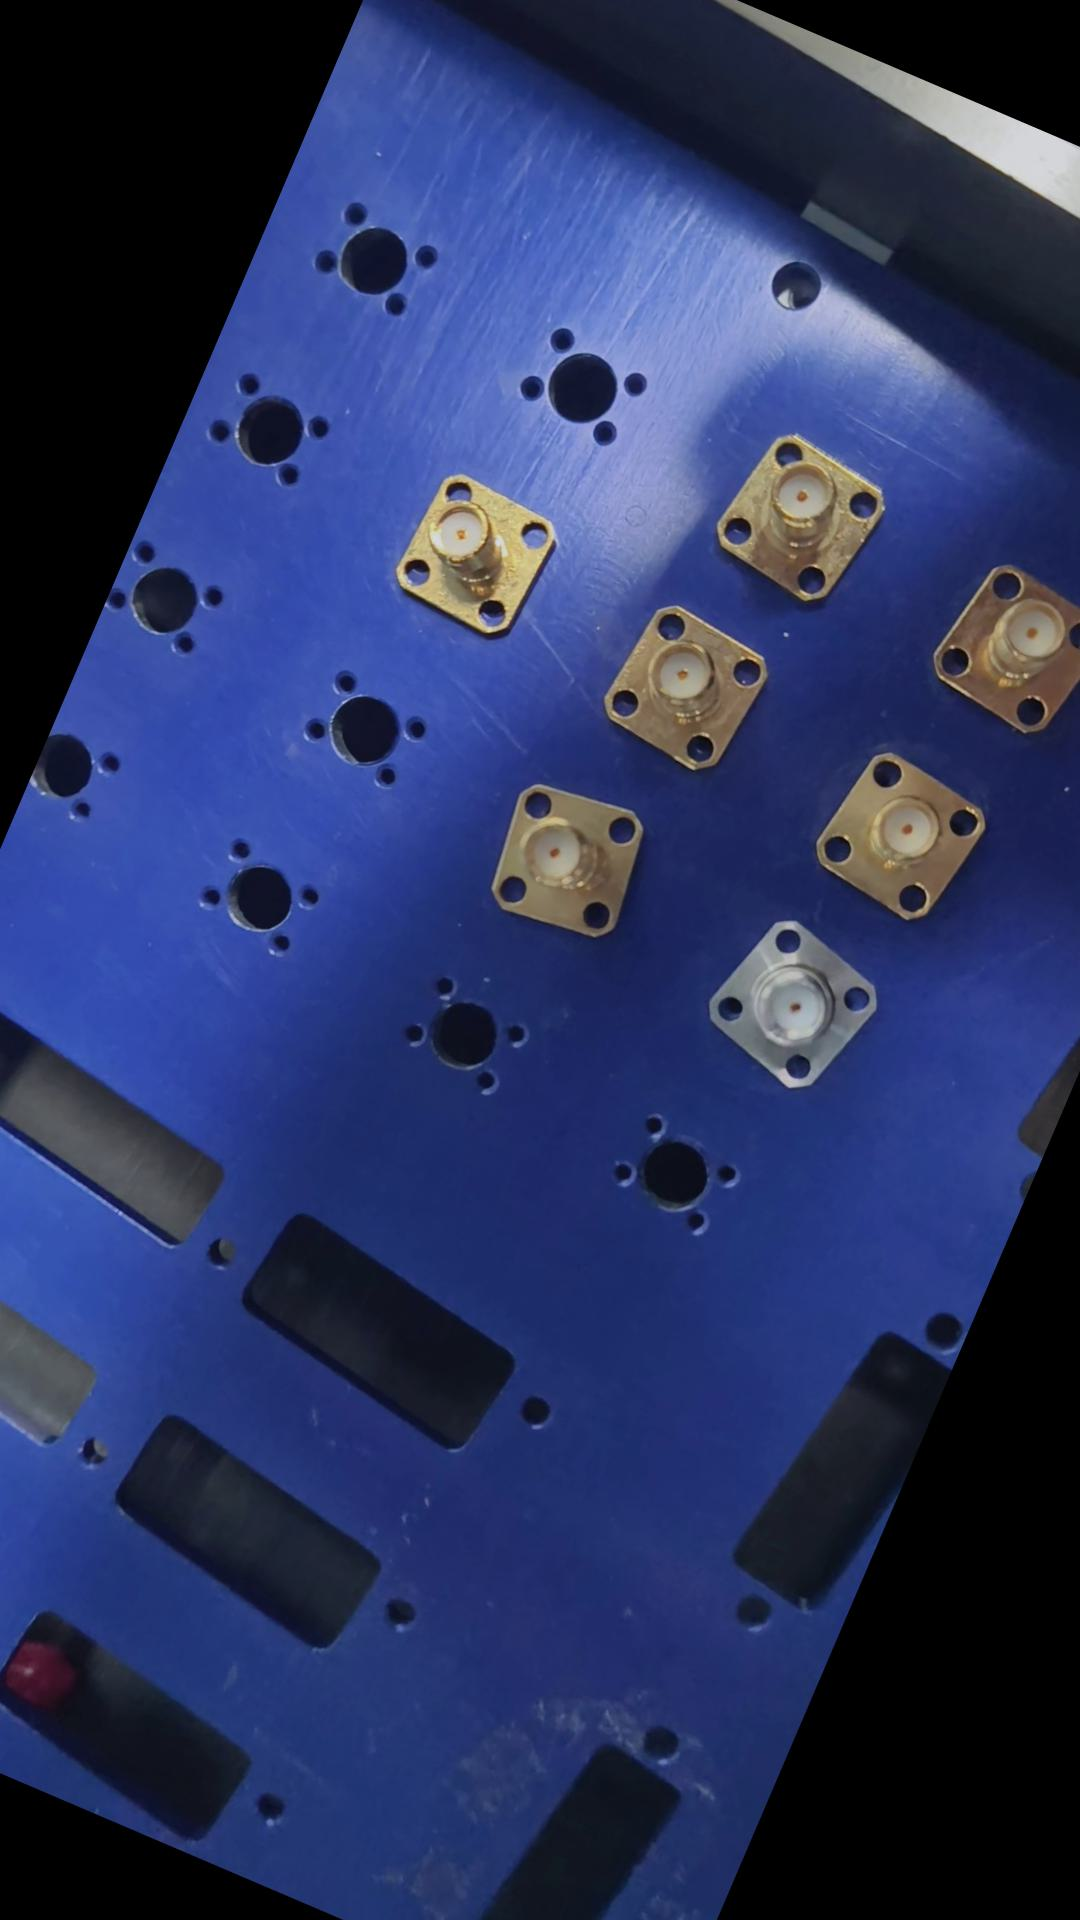SMA: (790, 731, 1011, 940), (680, 891, 895, 1105), (455, 758, 661, 963), (584, 585, 781, 785), (692, 419, 890, 615), (376, 455, 567, 655), (909, 554, 1079, 746)
